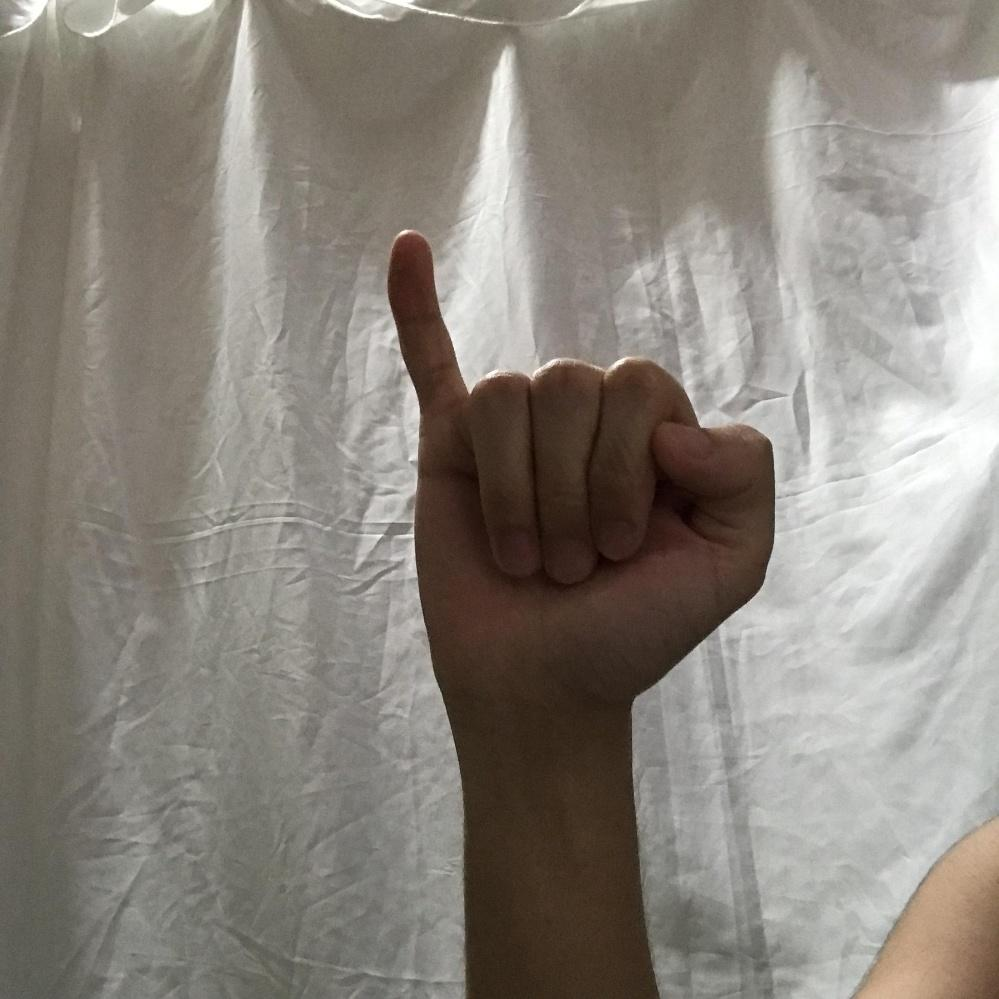i: (385, 221, 779, 684)
